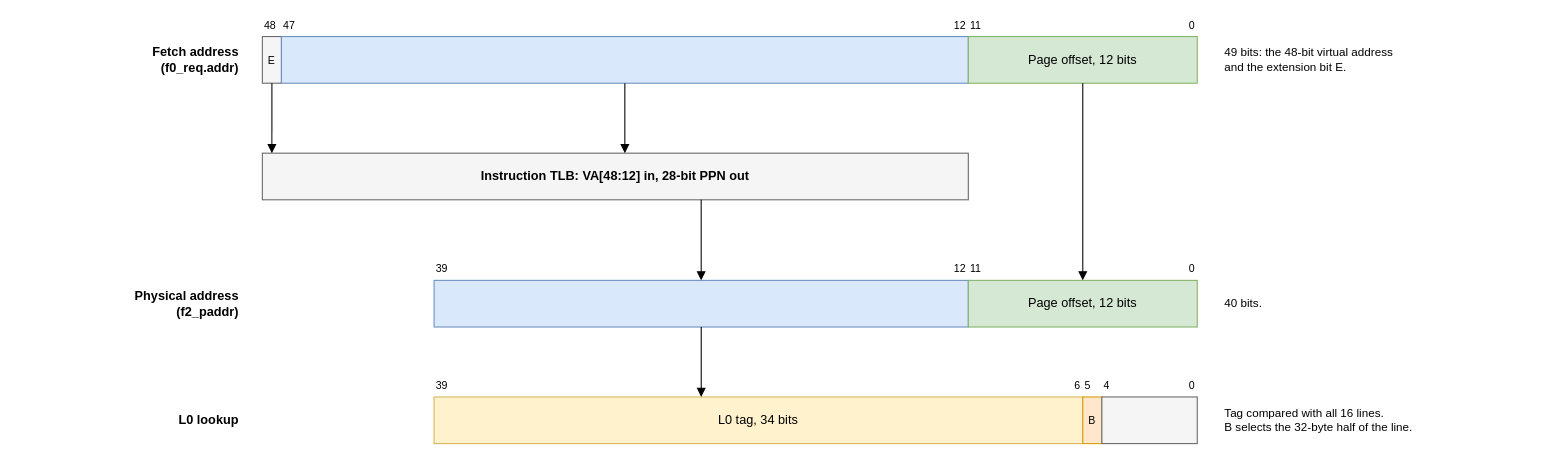
Image size: 1558x462. Some labels were removed from this diagram. Here are the shapes that lost their labels. From the top down, the centre of each, then its label:
At (x=624, y=59): "Virtual page number (VPN), 36 bits".
At (x=700, y=303): "Physical page number (PPN), 28 bits".
At (x=1149, y=420): "Not used".
